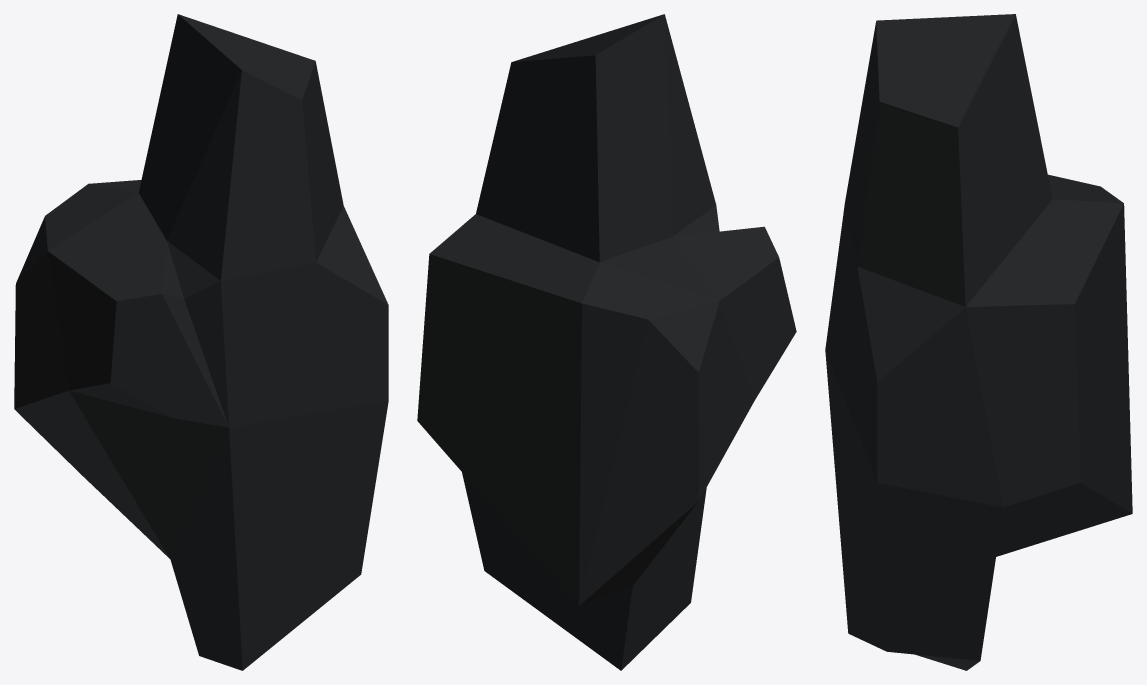
Rendered from pit_rock_b.gltf.
3 renders of one model, left to right at view 1: azimuth 30°, elevation 25°; view 2: azimuth 150°, elevation 25°; view 3: azimuth 270°, elevation 25°, orthographic. The views are drawn at different scales.
Parts seen in each view (by area): view 1: pit_rock_b; view 2: pit_rock_b; view 3: pit_rock_b.
Part boxes in pixels (x1=…): pit_rock_b: x1=14, y1=14, x2=388, y2=670; pit_rock_b: x1=417, y1=14, x2=796, y2=670; pit_rock_b: x1=825, y1=14, x2=1132, y2=670.
Bounding box in the file's own units: 1.98 × 4.16 × 1.76.
1 material, 1 textured.
